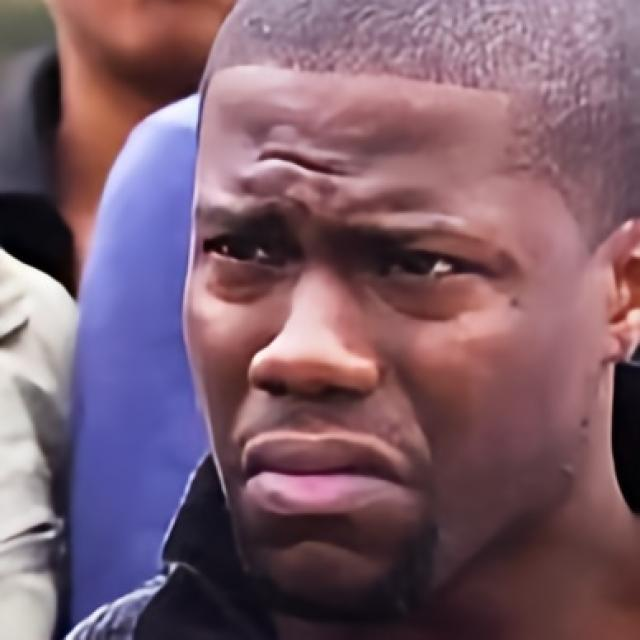disgust: (181, 54, 594, 615)
